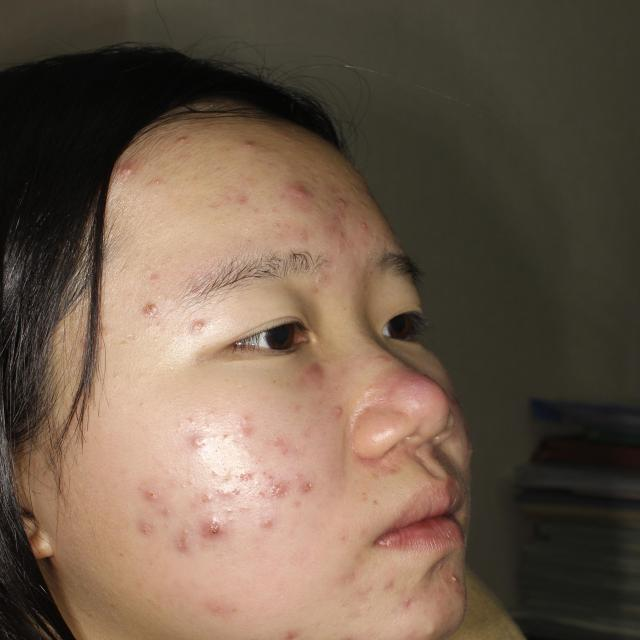Acne: (228, 413, 292, 530), (302, 358, 358, 419), (178, 499, 232, 559), (126, 486, 180, 542), (336, 194, 378, 252), (294, 466, 330, 523), (384, 574, 422, 626), (124, 286, 166, 331), (405, 359, 440, 409), (203, 586, 254, 616), (282, 176, 318, 214), (358, 485, 394, 520), (183, 314, 218, 349), (441, 562, 468, 605), (386, 446, 413, 486), (371, 349, 400, 386), (114, 156, 148, 186), (173, 116, 198, 154), (189, 422, 212, 460), (284, 610, 312, 640), (296, 225, 320, 258), (233, 126, 264, 151), (145, 260, 173, 286), (234, 190, 256, 212)
